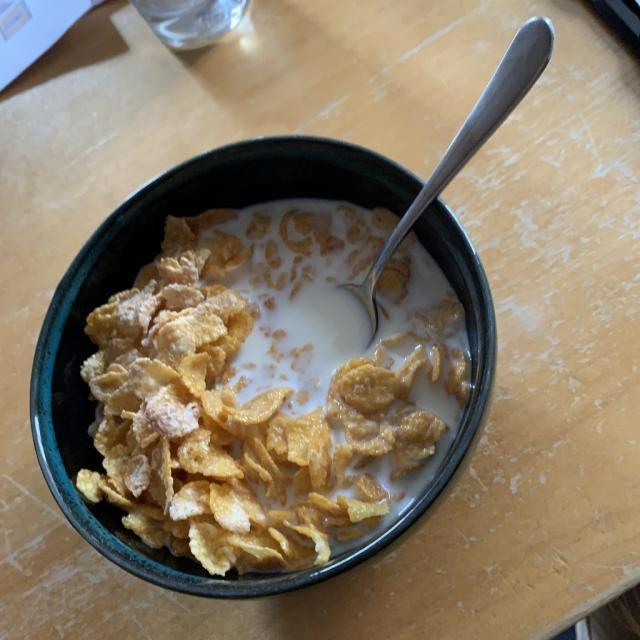milk: (212, 212, 435, 417)
